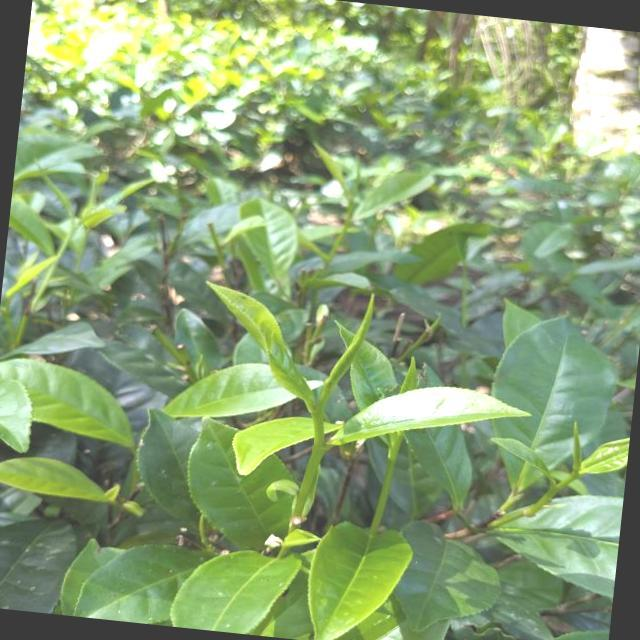Stem: (311, 410, 324, 426)
